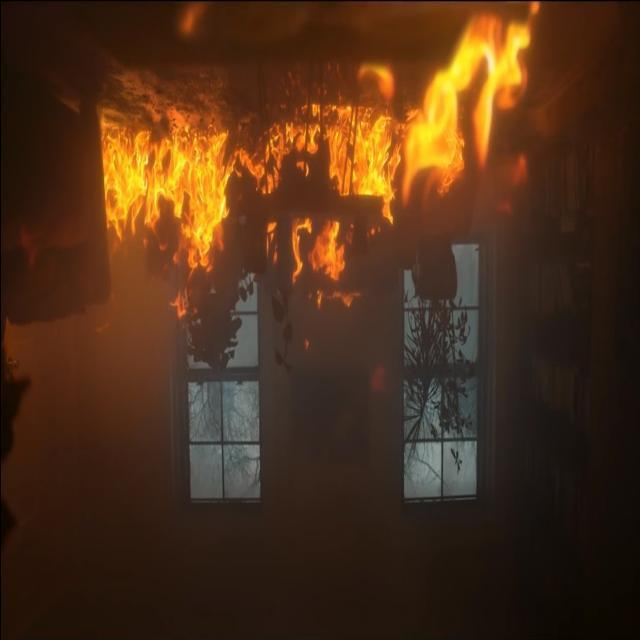Fire: (110, 0, 534, 280)
